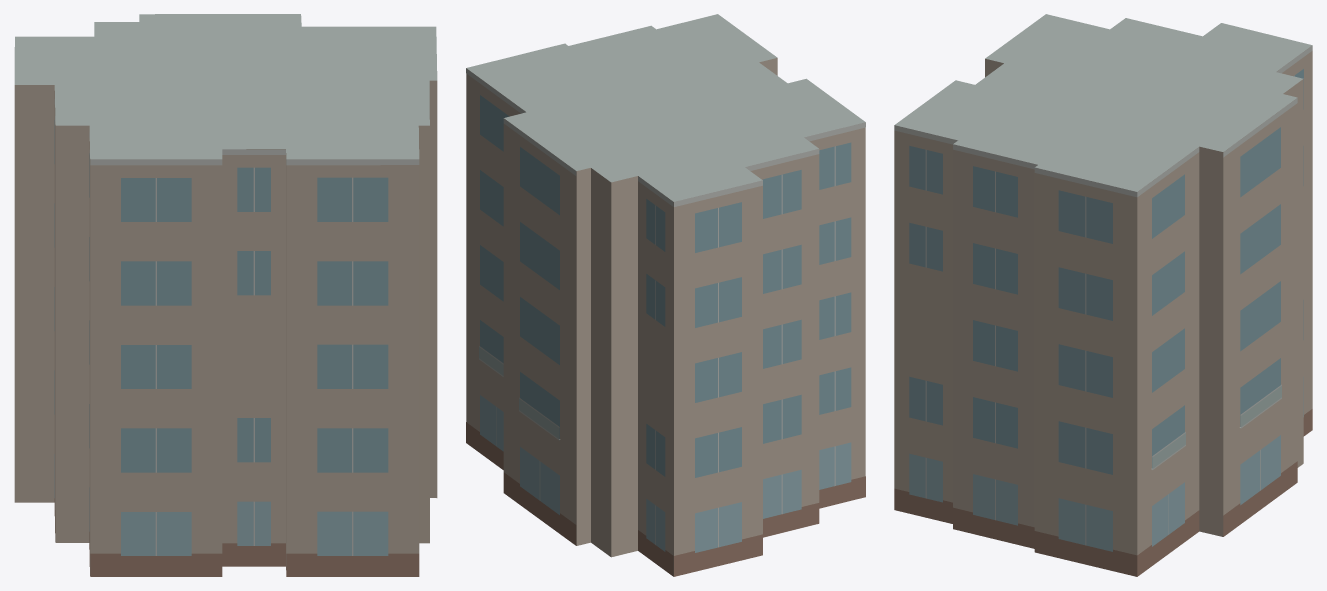
The model's file is survey-upis-32962444.glb.
3 views of the same model, side by side, from view 1: azimuth 30°, elevation 25°; view 2: azimuth 150°, elevation 25°; view 3: azimuth 270°, elevation 25° (orthographic). The views are drawn at different scales.
Visible parts, largest first — view 1: survey-upis-32962444.tmp; view 2: survey-upis-32962444.tmp; view 3: survey-upis-32962444.tmp.
Part boxes in pixels (bbox=[...]): survey-upis-32962444.tmp: bbox=[14, 14, 437, 576]; survey-upis-32962444.tmp: bbox=[466, 14, 865, 576]; survey-upis-32962444.tmp: bbox=[894, 14, 1312, 576].
Bounding box in the file's own units: 17.21 × 17.35 × 17.09.
